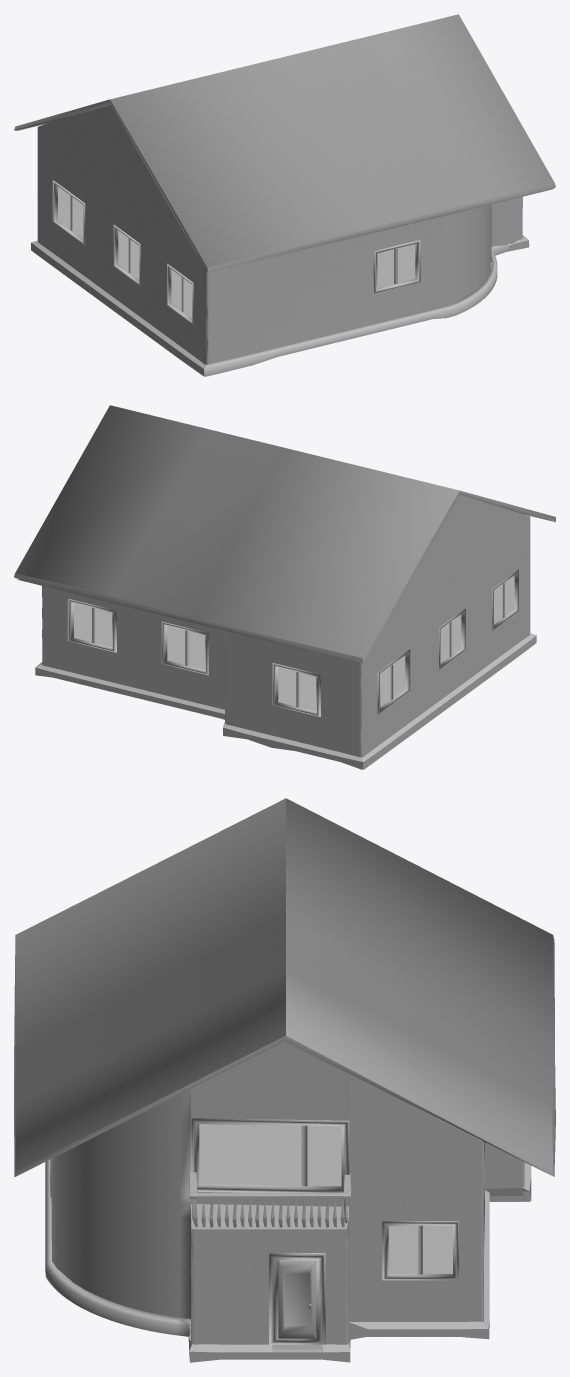
File: house.FBX
3 renders of one model, top to bottom at view 1: azimuth 30°, elevation 25°; view 2: azimuth 150°, elevation 25°; view 3: azimuth 270°, elevation 25°, orthographic. The views are drawn at different scales.
Parts seen in each view (by area): view 1: Cube.014; view 2: Cube.014; view 3: Cube.014.
Boxes of the visible parts, x1=… form: Cube.014: x1=14, y1=14, x2=555, y2=376; Cube.014: x1=14, y1=405, x2=555, y2=769; Cube.014: x1=14, y1=798, x2=555, y2=1362.
Size of the model in its own units: 940 by 505 by 820.
